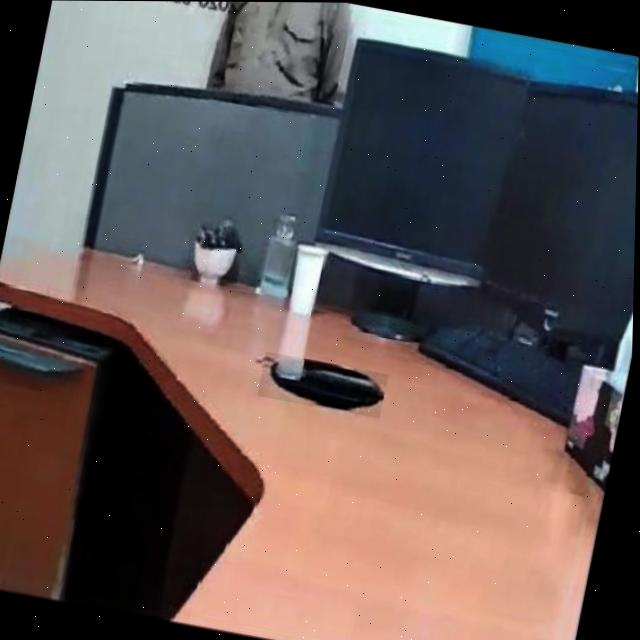spillage: (265, 359, 385, 412)
